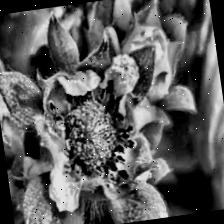Blossom Blight: (38, 76, 144, 199)
